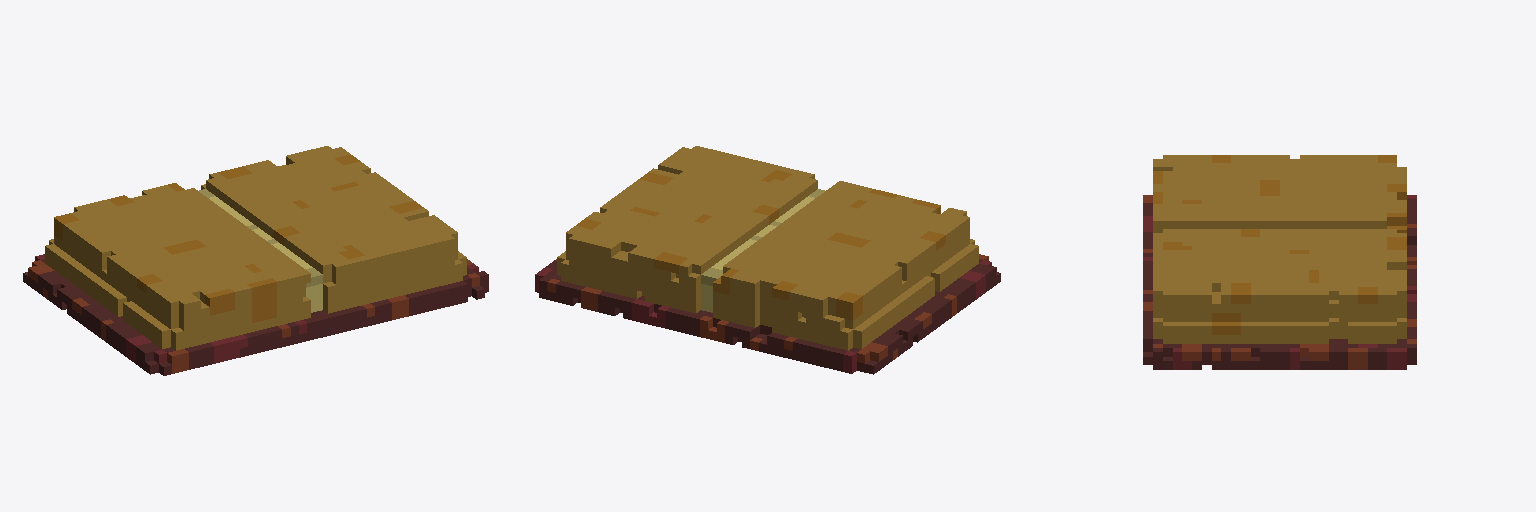
The picture shows the model from 3 angles: view 1: azimuth 30°, elevation 25°; view 2: azimuth 150°, elevation 25°; view 3: azimuth 270°, elevation 25°; orthographic projection.
Parts seen in each view (by area): view 1: object 1; view 2: object 1; view 3: object 1.
Part boxes in pixels (left/top/right/bottom): object 1: left=23, top=146, right=488, bottom=375; object 1: left=535, top=146, right=1000, bottom=374; object 1: left=1143, top=155, right=1416, bottom=369.
Bounding box in the file's own units: 4 × 0.7 × 2.8.
Materials: 1 (1 with a texture image).